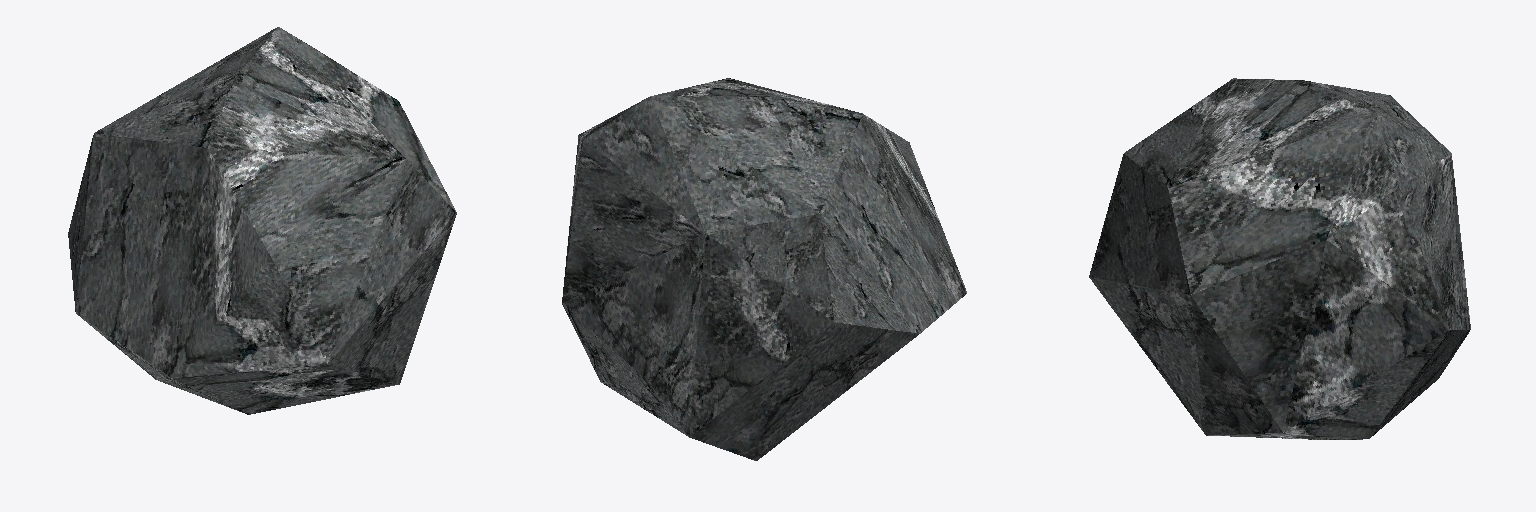
The picture shows the model from 3 angles: view 1: azimuth 30°, elevation 25°; view 2: azimuth 150°, elevation 25°; view 3: azimuth 270°, elevation 25°; orthographic projection.
Visible parts, largest first — view 1: Root; view 2: Root; view 3: Root.
Part boxes in pixels (left/top/right/bottom): Root: left=68, top=27, right=456, bottom=414; Root: left=562, top=78, right=966, bottom=460; Root: left=1089, top=78, right=1470, bottom=439.
Bounding box in the file's own units: 59.05 × 60.2 × 58.75.
Materials: 1 (1 with a texture image).